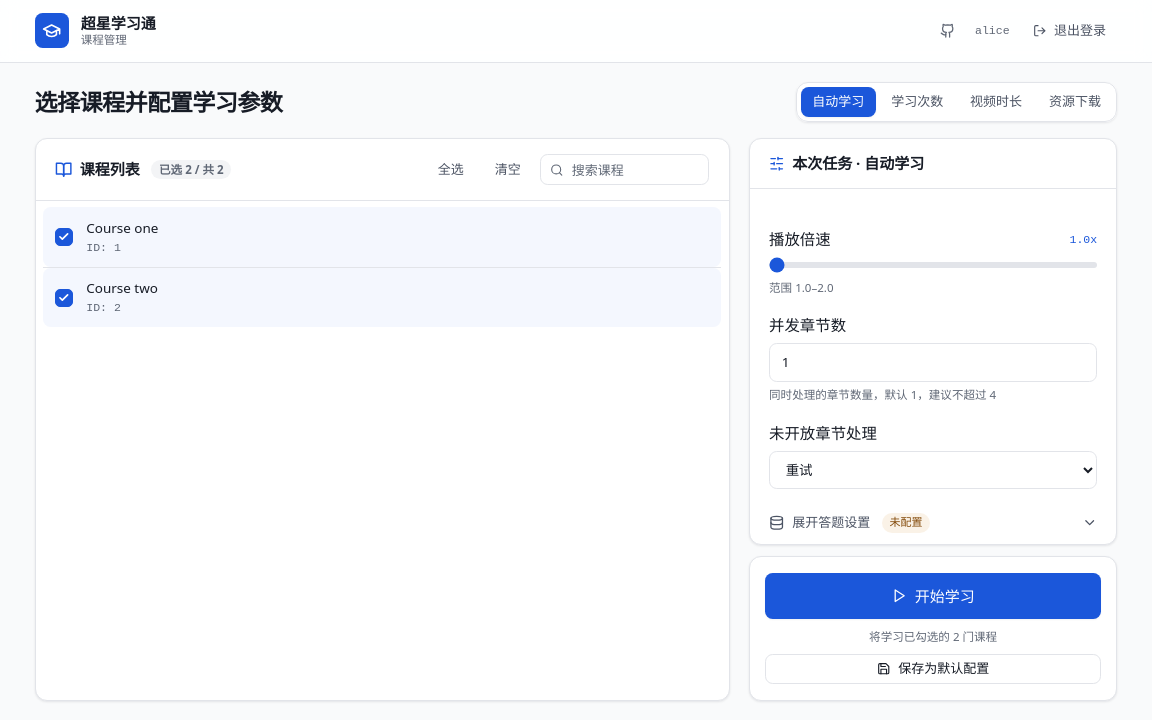
it: task navigation › adopts the running task returned by a 409 response
Click the button "开始学习": (933, 596) 765,573 -> 1101,619
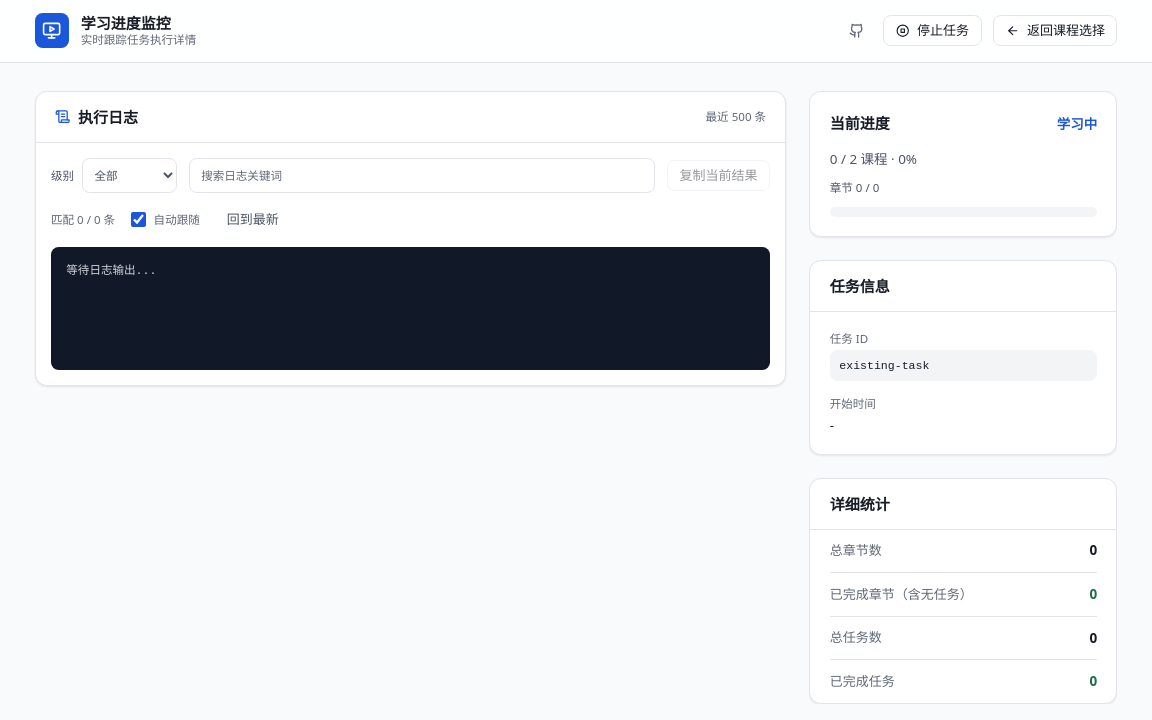
Expected: the text "existing-task" is shown, 830,350 -> 1097,381
